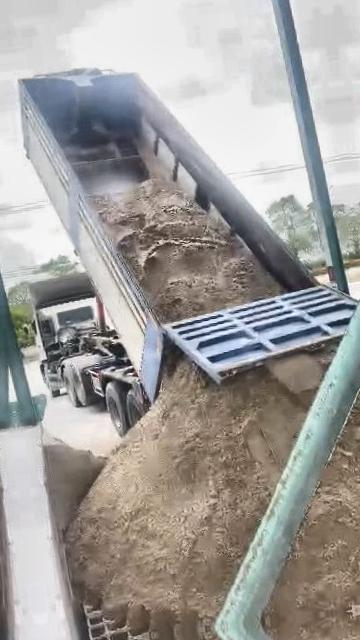sand: (68, 350, 331, 632), (95, 185, 279, 320), (266, 399, 360, 619), (44, 436, 106, 545), (267, 343, 336, 392), (359, 367, 360, 413)
